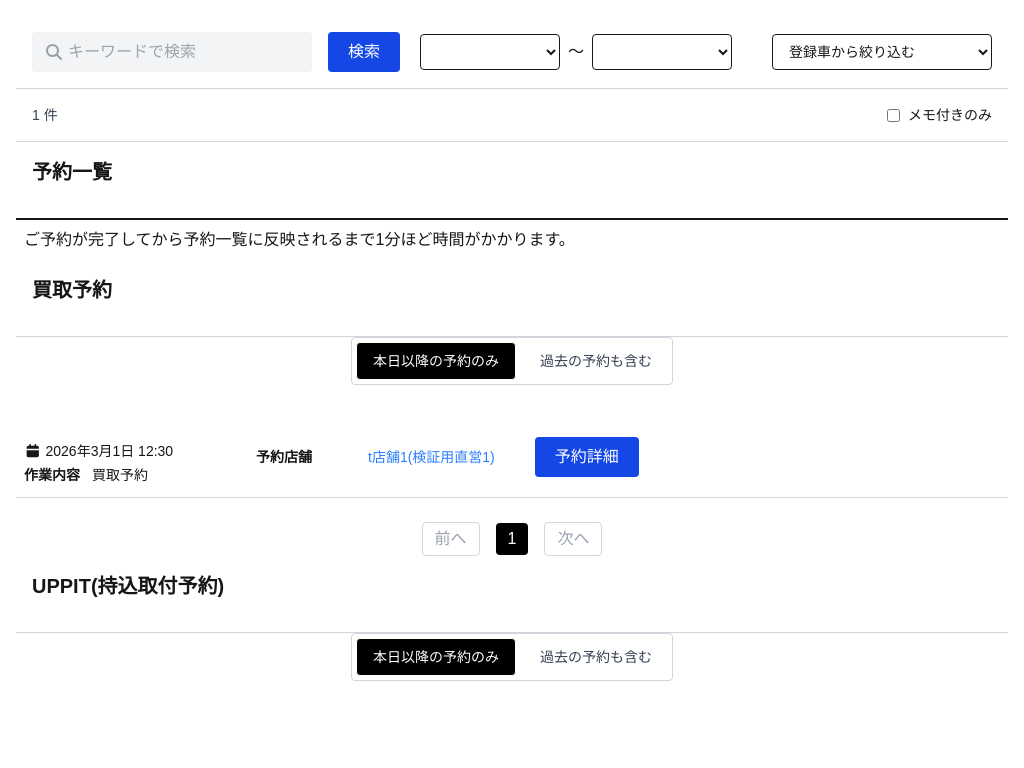
Test: ReservationTab 日付フィルタ › 過去の予約も含むを押すと、両方のトグルが過去表示状態になる
Click the 1st button "過去の予約も含む".
click(596, 361)  # box [524, 342, 668, 380]
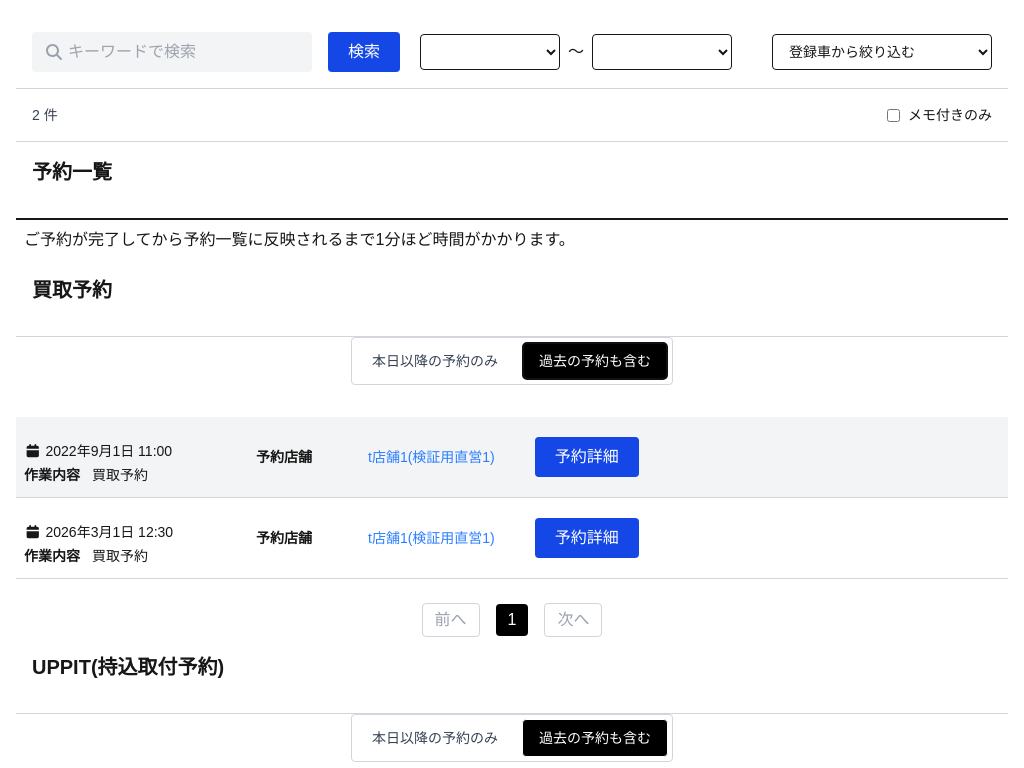
Check: the text "2026年3月1日 12:30" is shown, box [24, 522, 176, 542]
Check: the text "2022年9月1日 11:00" is shown, box [24, 441, 176, 461]
